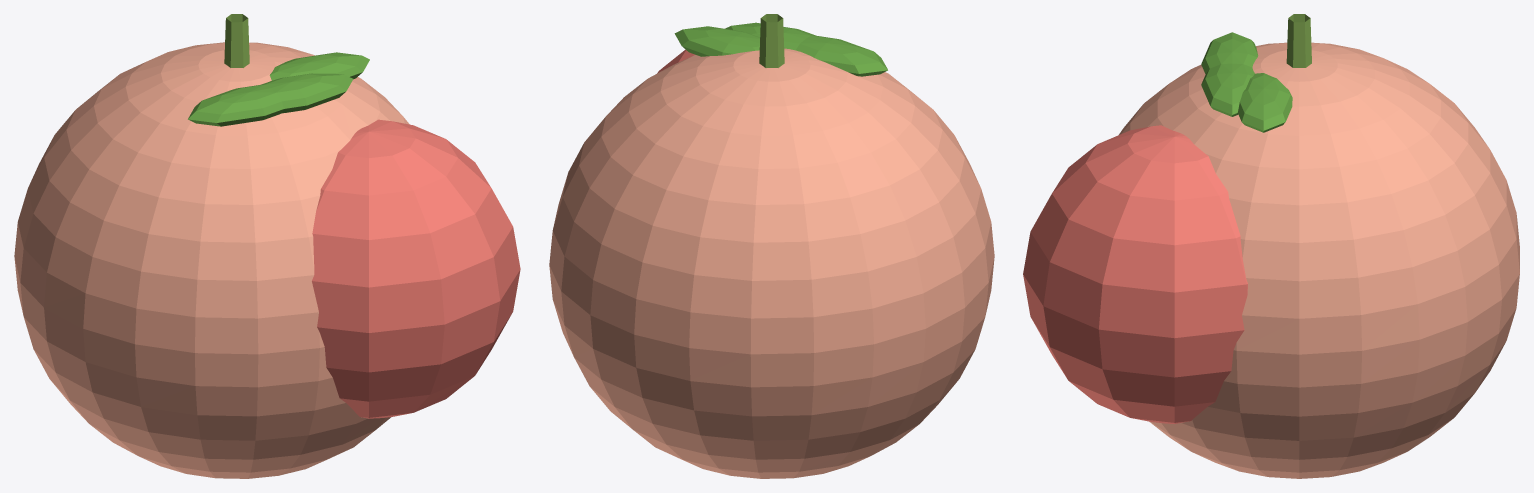
File: peach.obj
3 renders of one model, left to right at view 1: azimuth 30°, elevation 25°; view 2: azimuth 150°, elevation 25°; view 3: azimuth 270°, elevation 25°, orthographic.
Size of the model in its own units: 1.02 by 1.09 by 1.11.
